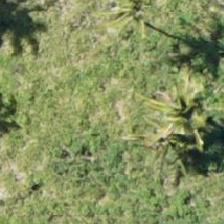coconut_tree: (122, 59, 212, 149), (82, 0, 172, 63)
